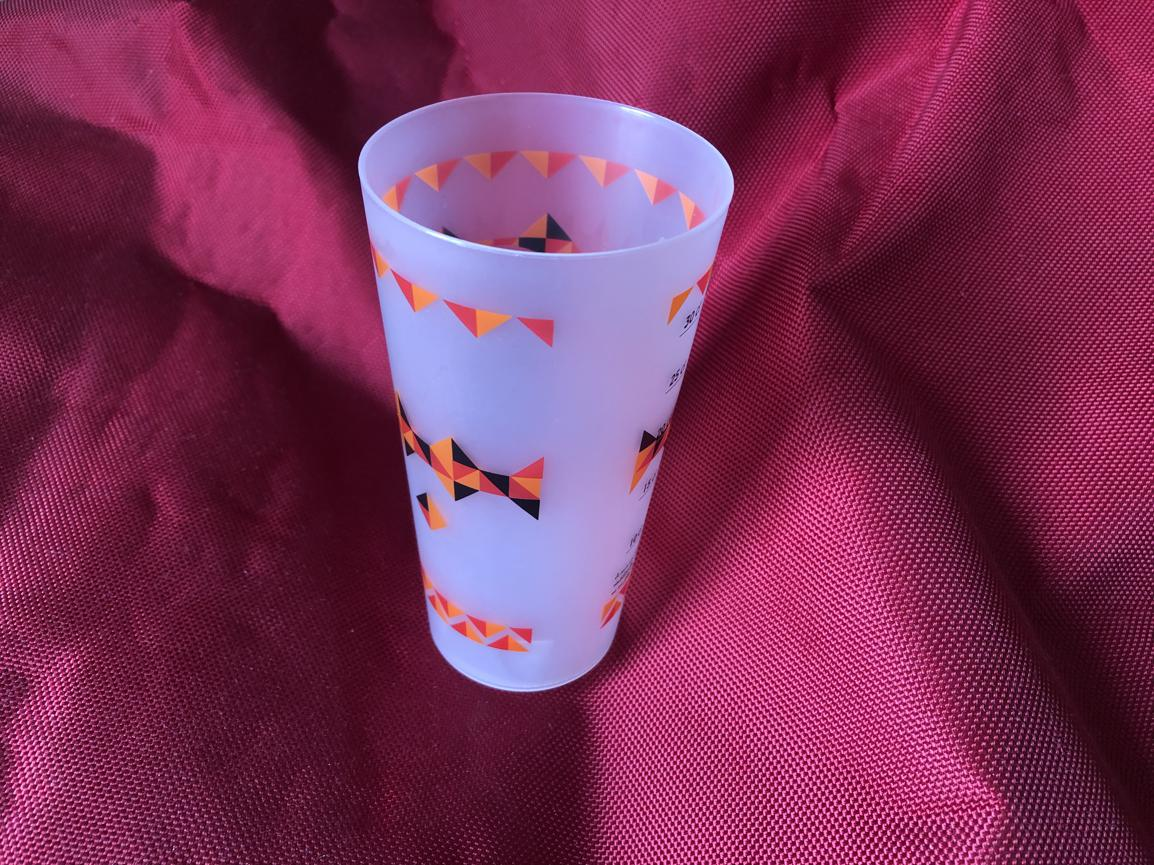ecocup: (355, 92, 734, 695)
